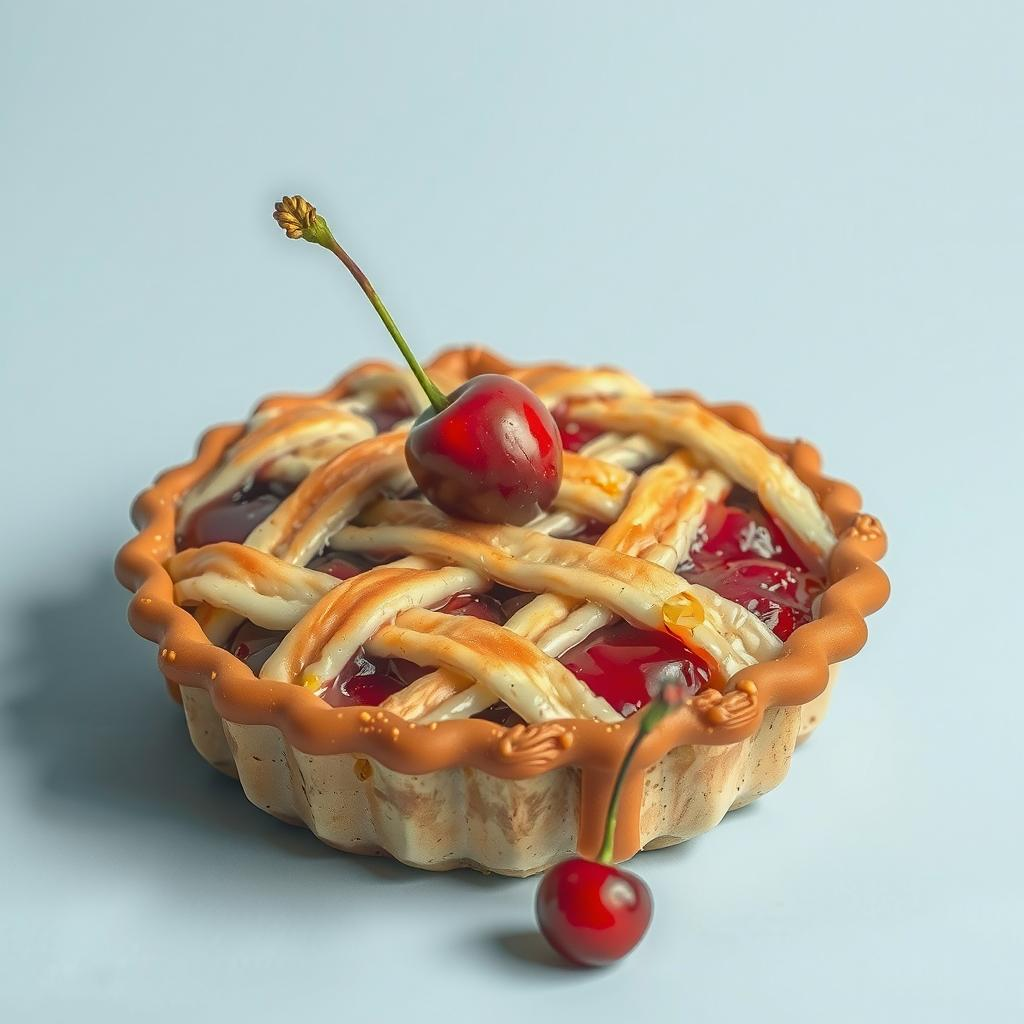pie: (114, 339, 910, 890)
